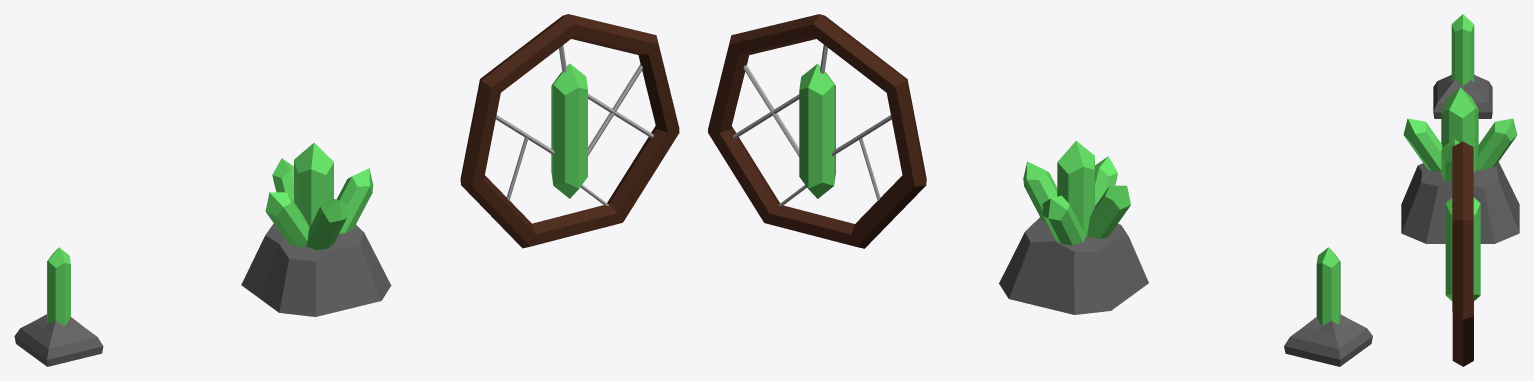
The model's file is Target01.fbx.
3 views of the same model, side by side, from view 1: azimuth 30°, elevation 25°; view 2: azimuth 150°, elevation 25°; view 3: azimuth 270°, elevation 25° (orthographic). The views are drawn at different scales.
Visible parts, largest first — view 1: Cylinder.002, Cube.001, Cube.005, Cube.003, Cube.002, Cube.004, Cube.006; view 2: Cylinder.002, Cube.001, Cube.005, Cube.003, Cube.002, Cube.004, Cube.006; view 3: Cylinder.002, Cube.001, Cube.004, Cube.002, Cube.006, Cube.005, Cube.003.
Boxes of the visible parts, x1,y1,x2,y2 form: Cylinder.002: (460,14,679,248); Cube.001: (241,223,391,316); Cube.005: (14,314,103,366); Cube.003: (265,168,373,247); Cube.002: (294,143,333,227); Cube.004: (272,158,347,249); Cube.006: (47,247,70,326); Cylinder.002: (708,14,926,248); Cube.001: (999,217,1148,314); Cube.005: (1284,314,1372,366); Cube.003: (1023,161,1130,238); Cube.002: (1057,141,1094,236); Cube.004: (1042,156,1117,245); Cube.006: (1316,247,1340,325); Cylinder.002: (1445,141,1480,366); Cube.001: (1401,162,1519,243); Cube.004: (1403,118,1517,171); Cube.002: (1442,87,1478,172); Cube.006: (1451,14,1474,86); Cube.005: (1433,75,1492,118); Cube.003: (1441,111,1459,181).
Size of the model in its own units: 4072 by 1341 by 704.
